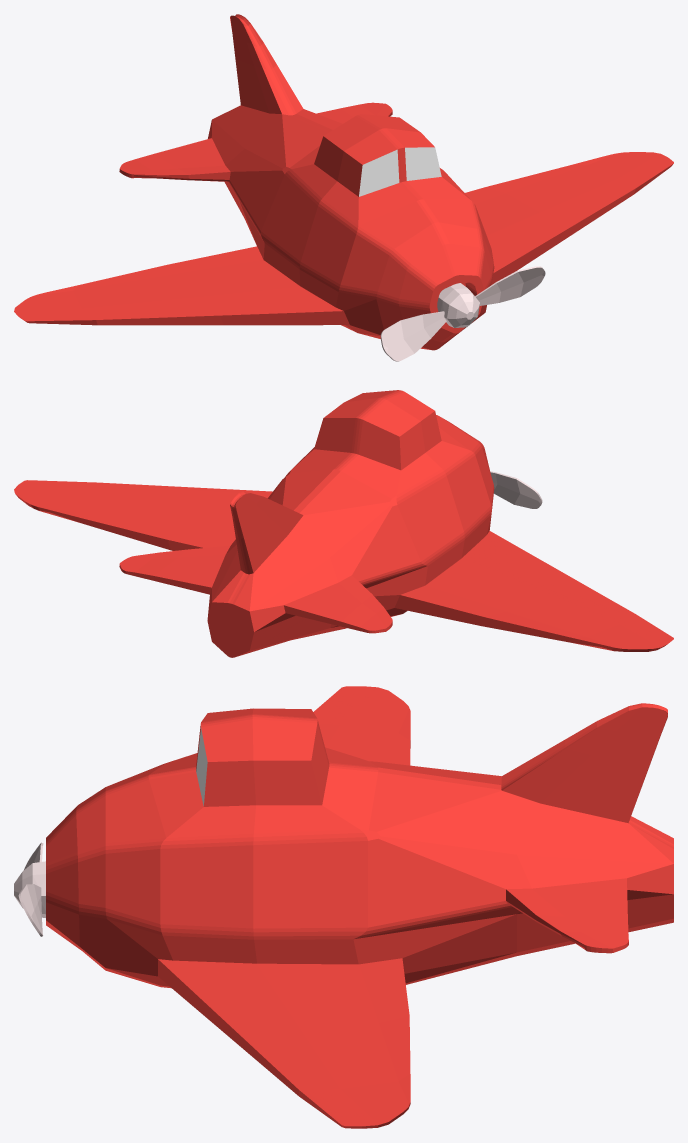
Rendered from airplane2.glb.
3 renders of one model, top to bottom at view 1: azimuth 30°, elevation 25°; view 2: azimuth 150°, elevation 25°; view 3: azimuth 270°, elevation 25°, orthographic. The views are drawn at different scales.
Visible parts, largest first — view 1: planeBody.bevel.001, propeller.bevel; view 2: planeBody.bevel.001, propeller.bevel; view 3: planeBody.bevel.001, propeller.bevel.
Boxes of the visible parts, x1,y1,x2,y2 form: planeBody.bevel.001: [14, 14, 673, 350]; propeller.bevel: [380, 266, 545, 361]; planeBody.bevel.001: [14, 390, 673, 657]; propeller.bevel: [490, 471, 542, 508]; planeBody.bevel.001: [46, 686, 673, 1128]; propeller.bevel: [14, 842, 45, 936].
Bounding box in the file's own units: 3.15 × 0.9677 × 2.
